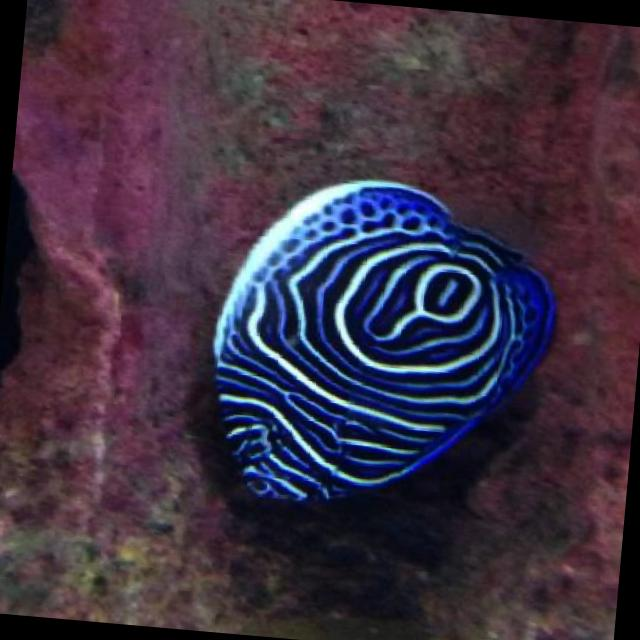AngelFish: (198, 167, 567, 531)
